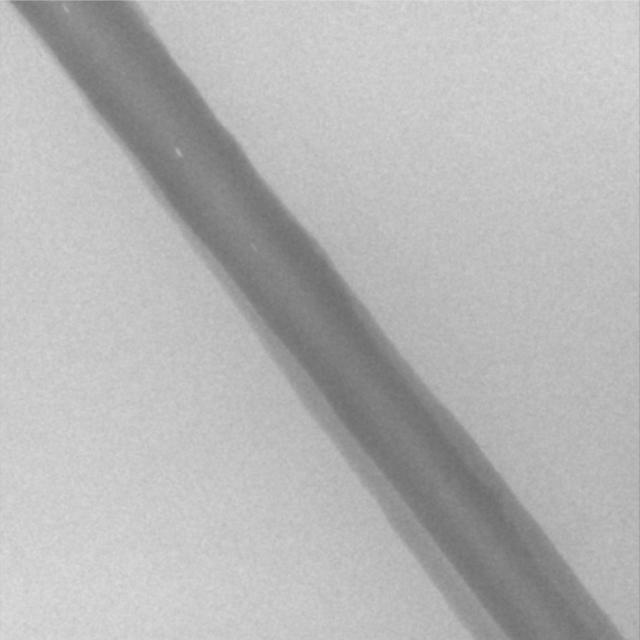air hole: (172, 145, 182, 161), (60, 1, 68, 13)
